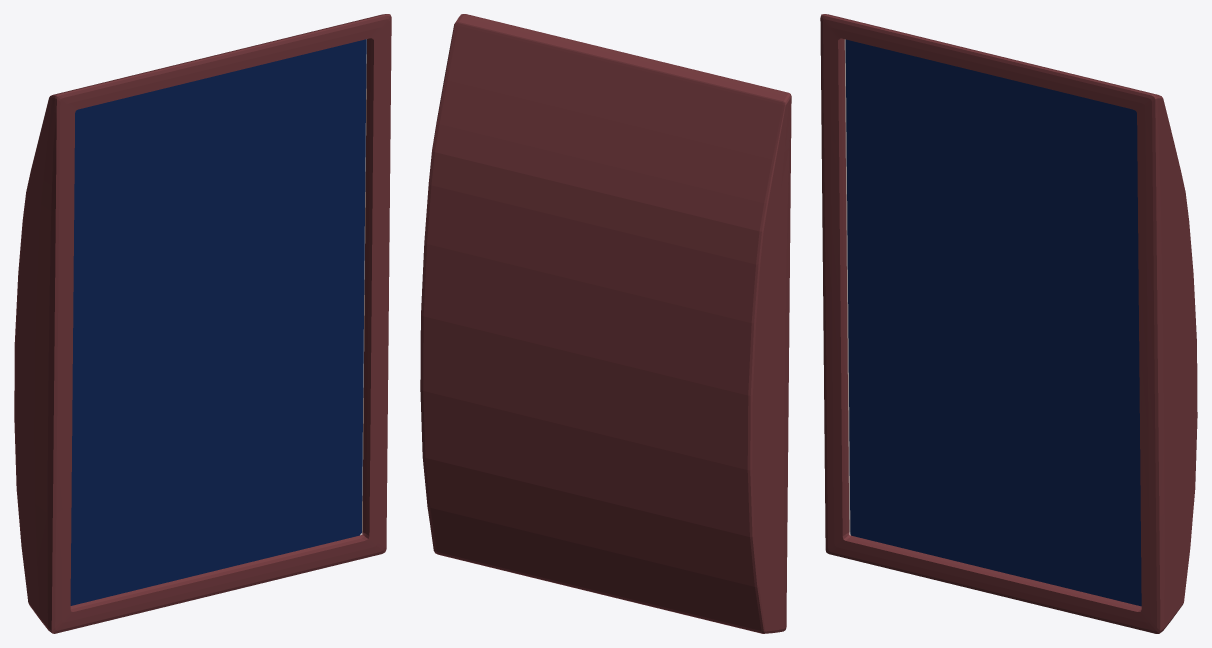
3 views of the same model, side by side, from view 1: azimuth 30°, elevation 25°; view 2: azimuth 150°, elevation 25°; view 3: azimuth 330°, elevation 25° (orthographic).
Parts seen in each view (by area): view 1: Subway_AD1; view 2: Subway_AD1; view 3: Subway_AD1.
Boxes of the visible parts, x1,y1,x2,y2 form: Subway_AD1: (14, 14, 391, 633); Subway_AD1: (420, 14, 791, 633); Subway_AD1: (820, 14, 1197, 633).
Bounding box in the file's own units: 136 × 209 × 30.22.
